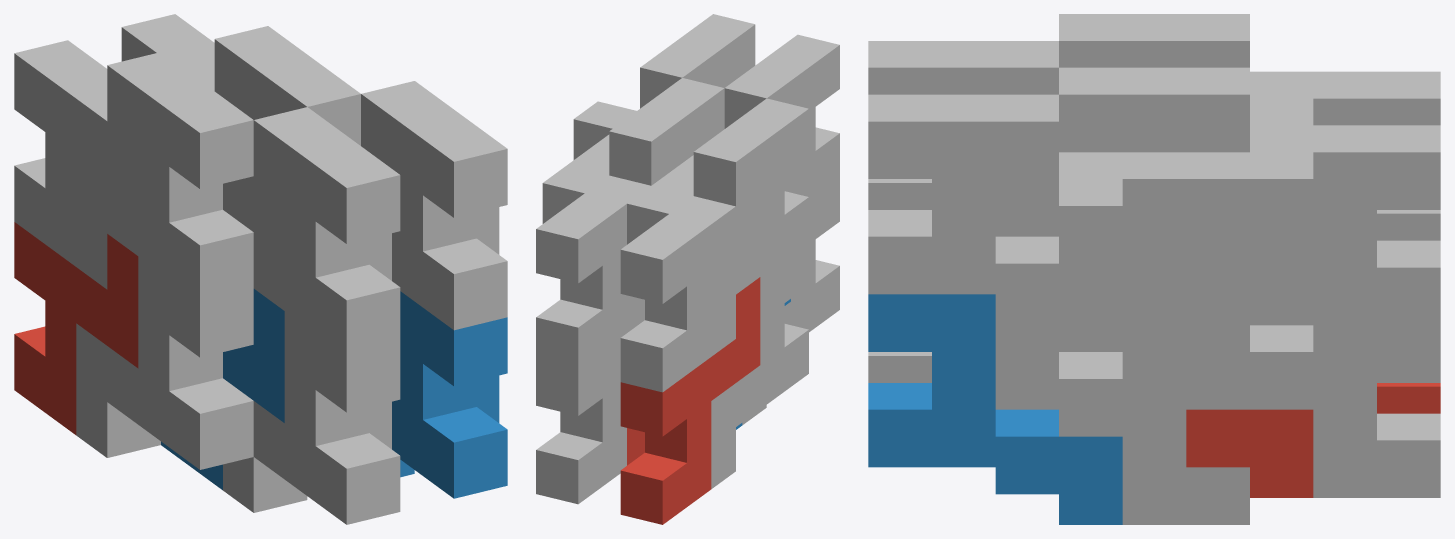
The model's file is tiling.obj.
The picture shows the model from 3 angles, left to right: view 1: azimuth 30°, elevation 25°; view 2: azimuth 150°, elevation 25°; view 3: azimuth 270°, elevation 25°; orthographic projection. The views are drawn at different scales.
Parts seen in each view (by area): view 1: copy_2_domain_3, copy_2_domain_1, copy_2_domain_4, copy_2_domain_2, copy_2_domain_8, copy_1_domain_3, copy_2_domain_6, copy_1_domain_1, copy_1_domain_7, copy_2_domain_7, copy_1_domain_4, copy_1_domain_2 (+1 smaller); view 2: copy_1_domain_3, copy_1_domain_7, copy_1_domain_1, copy_2_domain_3, copy_1_domain_5, copy_2_domain_1, copy_2_domain_4, copy_1_domain_8, copy_2_domain_7, copy_2_domain_2, copy_2_domain_8, copy_1_domain_4 (+1 smaller); view 3: copy_1_domain_8, copy_1_domain_7, copy_2_domain_8, copy_2_domain_6, copy_1_domain_6, copy_1_domain_5, copy_2_domain_7, copy_1_domain_3, copy_2_domain_5, copy_2_domain_4, copy_2_domain_3, copy_1_domain_4 (+2 smaller).
Part boxes in pixels (box(x1,y1,x2,y2)): copy_2_domain_3: box(76, 74, 253, 301); copy_2_domain_1: box(76, 256, 253, 469); copy_2_domain_4: box(253, 129, 400, 356); copy_2_domain_2: box(223, 311, 400, 524); copy_2_domain_8: box(392, 103, 507, 330); copy_1_domain_3: box(14, 40, 191, 266); copy_2_domain_6: box(392, 291, 507, 498); copy_1_domain_1: box(14, 222, 138, 434); copy_1_domain_7: box(121, 14, 298, 113); copy_2_domain_7: box(245, 48, 360, 145); copy_1_domain_4: box(223, 107, 337, 254); copy_1_domain_2: box(161, 289, 284, 490); copy_1_domain_3: box(620, 134, 760, 392); copy_1_domain_7: box(536, 113, 675, 371); copy_1_domain_1: box(620, 277, 760, 524); copy_2_domain_3: box(711, 98, 808, 356); copy_1_domain_5: box(536, 341, 626, 504); copy_2_domain_1: box(711, 241, 808, 488); copy_2_domain_4: box(749, 34, 839, 199); copy_1_domain_8: box(567, 49, 706, 175); copy_2_domain_7: box(627, 78, 724, 332); copy_2_domain_2: box(742, 177, 839, 425); copy_2_domain_8: box(665, 14, 755, 87); copy_1_domain_4: box(652, 70, 790, 195); copy_1_domain_8: box(995, 94, 1249, 351); copy_1_domain_7: box(1186, 67, 1440, 325); copy_2_domain_8: box(868, 94, 1122, 351); copy_2_domain_6: box(868, 294, 1122, 524); copy_1_domain_6: box(995, 321, 1249, 524); copy_1_domain_5: box(1250, 325, 1440, 497); copy_2_domain_7: box(1059, 67, 1313, 325); copy_1_domain_3: box(1186, 14, 1440, 240); copy_2_domain_5: box(1186, 409, 1313, 497); copy_2_domain_4: box(868, 41, 995, 209); copy_2_domain_3: box(1059, 14, 1186, 67); copy_1_domain_4: box(995, 41, 1058, 94).
Bounding box in the file's own units: 5 × 7 × 9.
